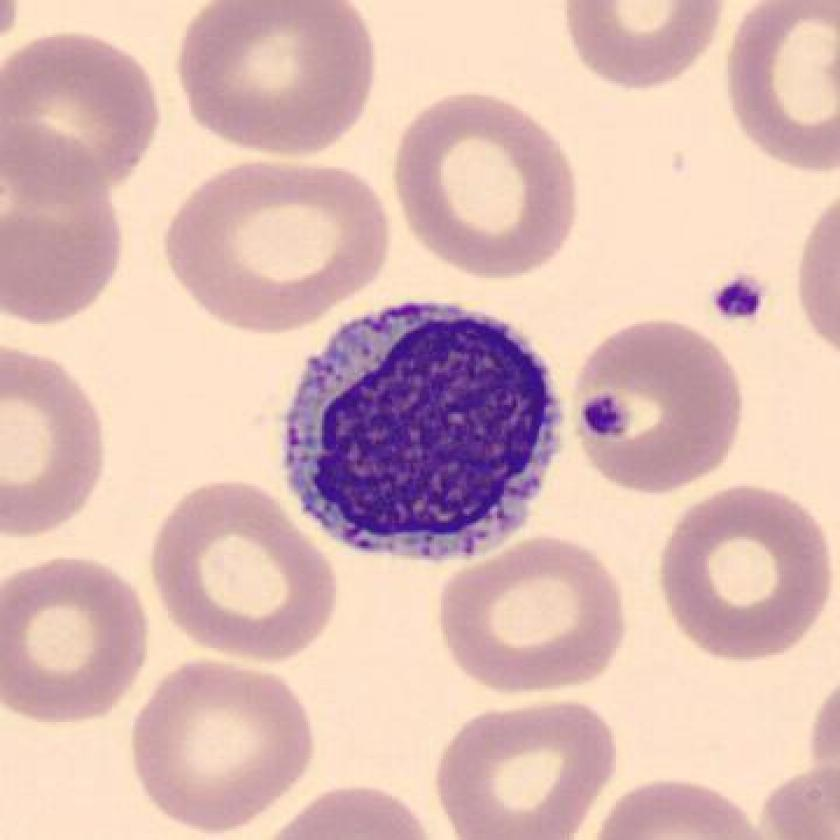lymphocyte: (270, 279, 578, 584)
